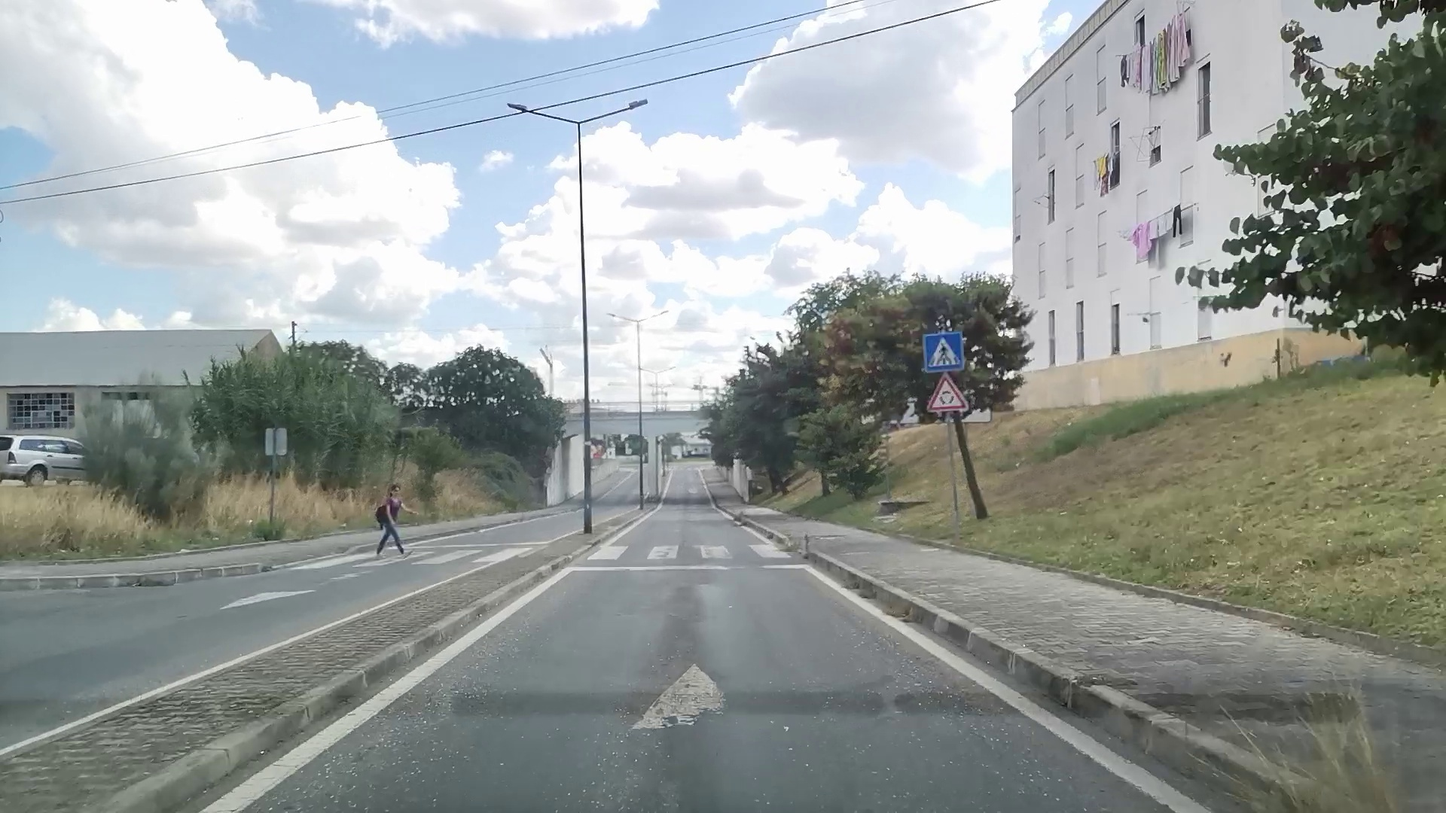Stairs: (291, 545, 530, 572), (589, 538, 795, 565)
